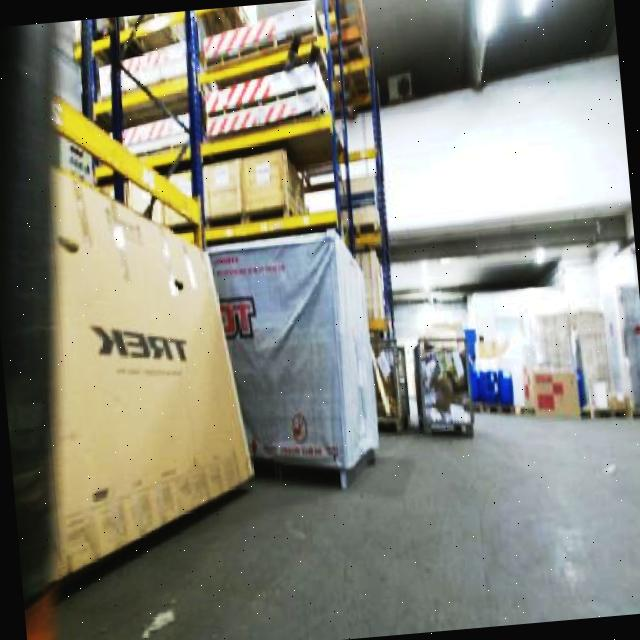ground: (10, 389, 640, 640)
pallet: (68, 0, 388, 240), (477, 279, 640, 436), (392, 312, 479, 449)
